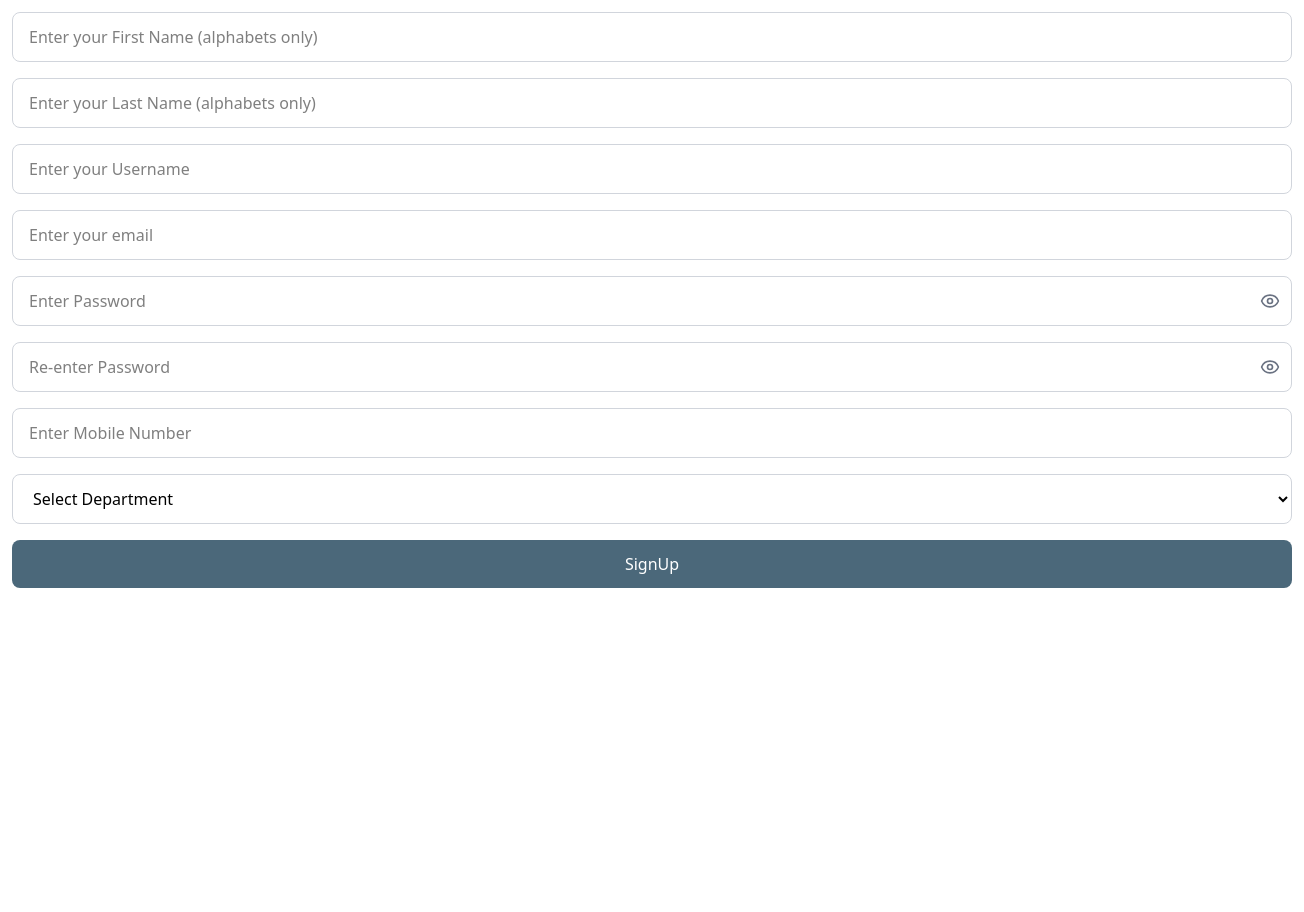
Test: GovtAuthSignUpForm component › shows new department input when "Other" is selected
Step 1. Select "Other" in the dropdown → (652, 499), box [12, 474, 1292, 524]
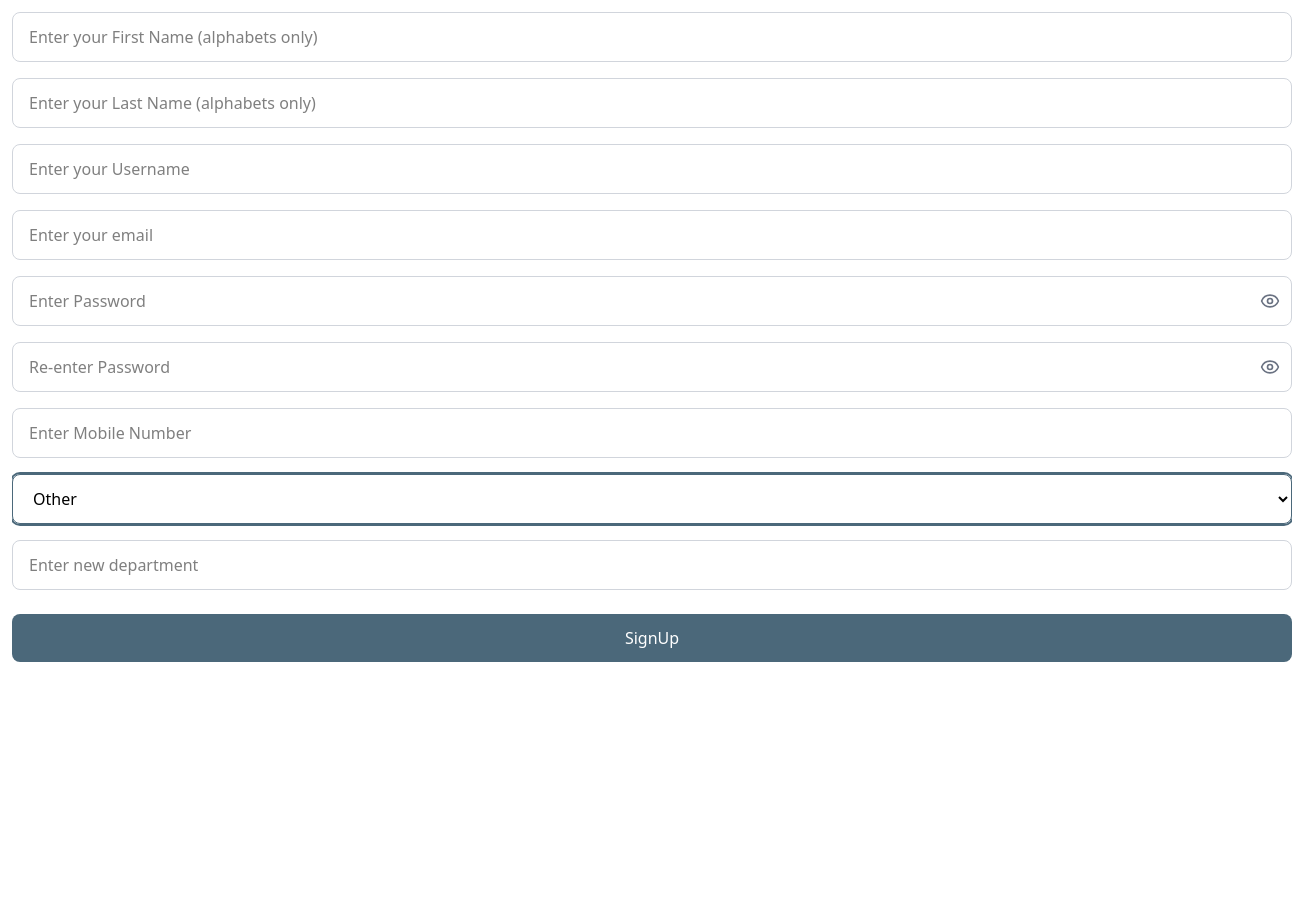
Now the field with placeholder "Enter new department" is shown, box [12, 540, 1292, 590]
